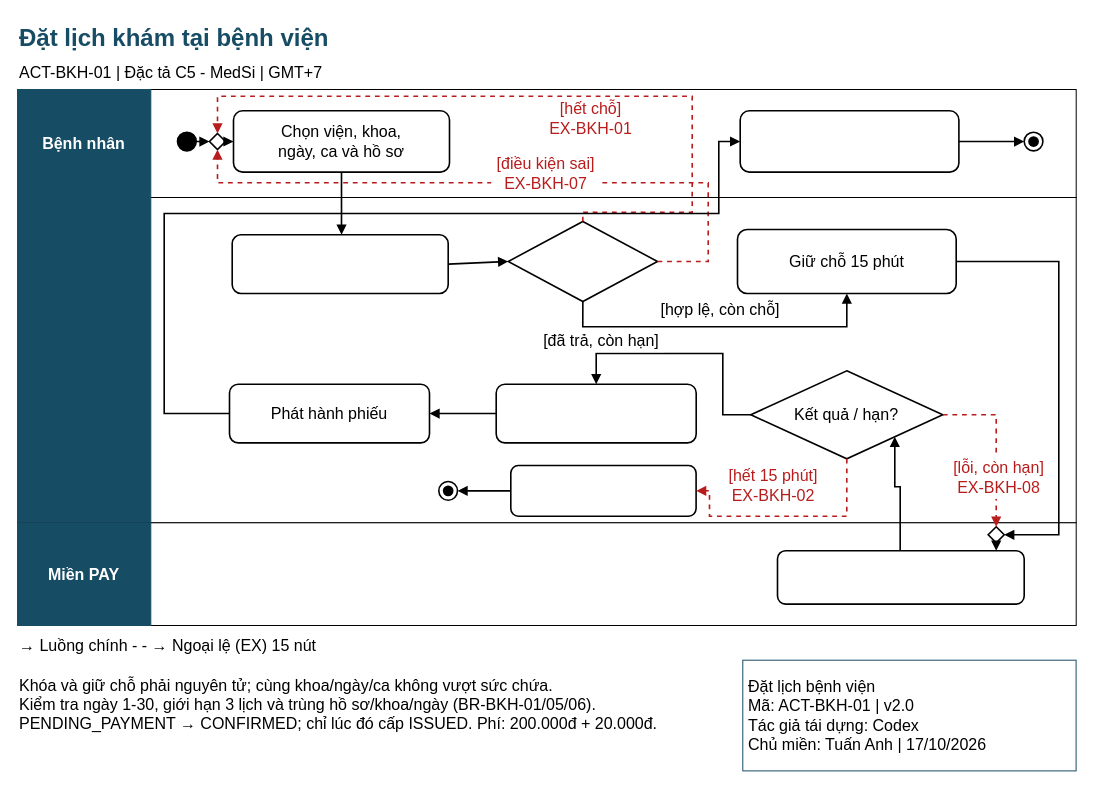
Image size: 1094x788. Some labels were removed from this diagram. The shapes that lost their labels are listed below. From the top down, each one's centre as x and y in pixels, then its label:
At (x=849, y=141): "Xem phiếu và QR".
At (x=339, y=264): "Kiểm tra điều kiện và sức chứa".
At (x=582, y=261): "Được đặt?".
At (x=83, y=359): "MedSi".
At (x=595, y=413): "Xác nhận lịch".
At (x=603, y=490): "Hủy lịch, nhả chỗ".
At (x=900, y=577): "Thực hiện thanh toán".
